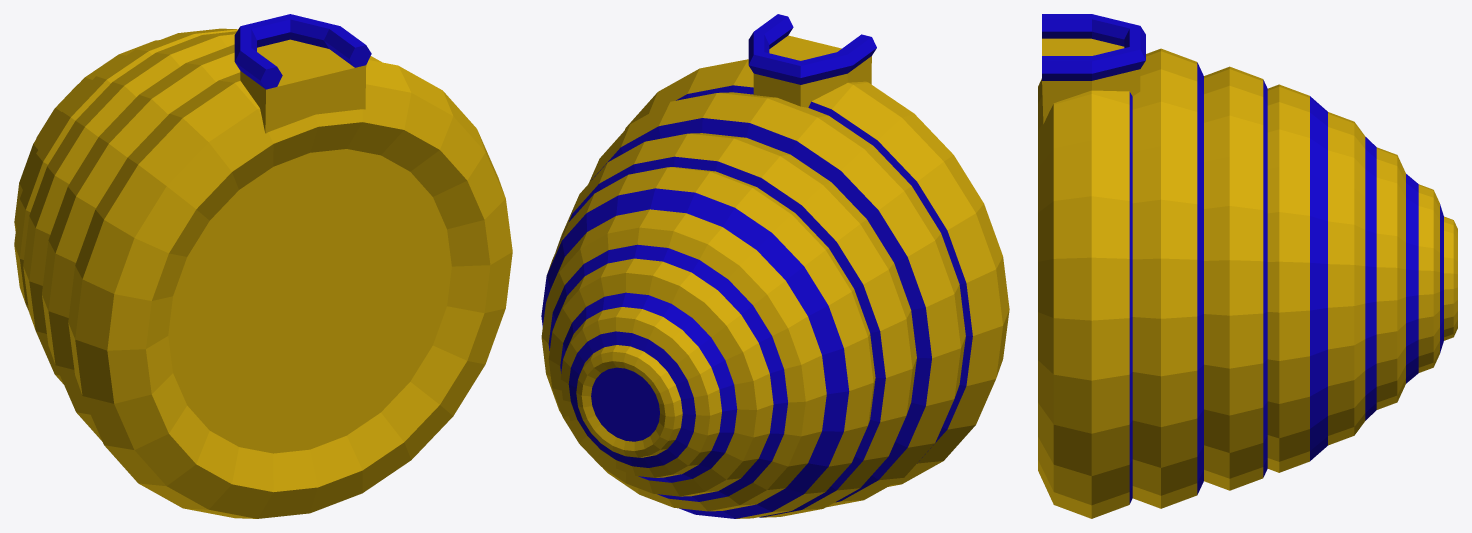
Rendered from Hive_Player_Blue.fbx.
3 renders of one model, left to right at view 1: azimuth 30°, elevation 25°; view 2: azimuth 150°, elevation 25°; view 3: azimuth 270°, elevation 25°, orthographic. The views are drawn at different scales.
Visible parts, largest first — view 1: Hive_Player1; view 2: Hive_Player1; view 3: Hive_Player1.
Boxes of the visible parts, <box> form: Hive_Player1: <box>14,14,512,518</box>; Hive_Player1: <box>541,14,1009,518</box>; Hive_Player1: <box>1038,14,1457,518</box>.
Size of the model in its own units: 450 by 473 by 392.
